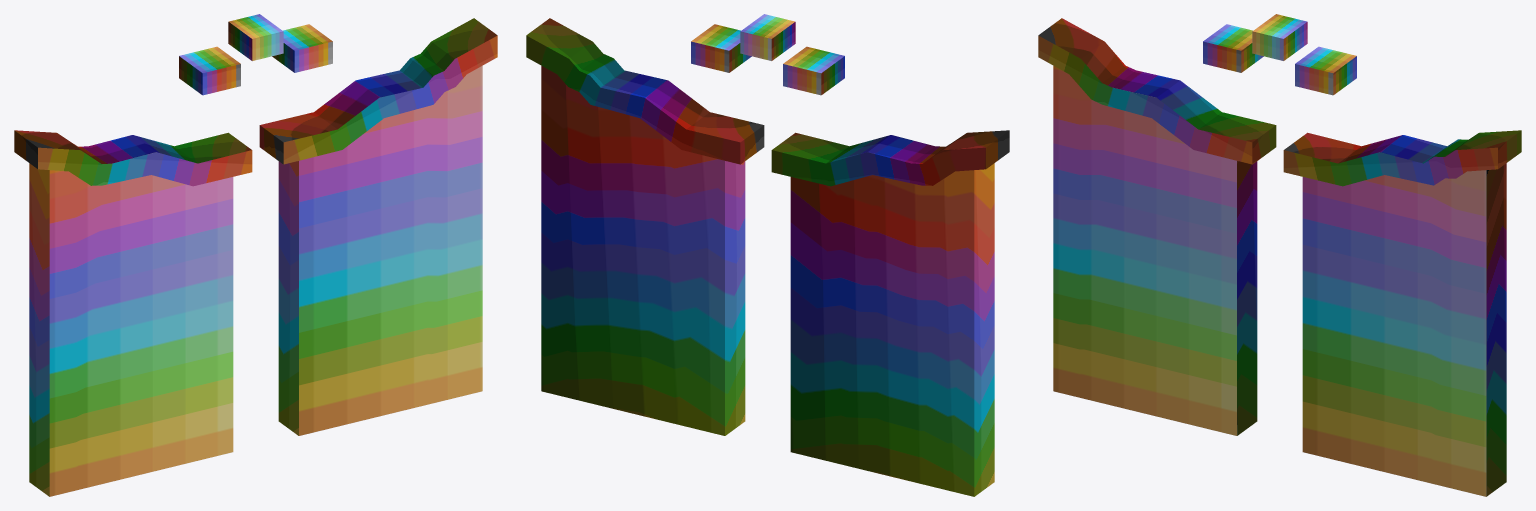
The model's file is DungeonTerrain.fbx.
The picture shows the model from 3 angles, left to right: view 1: azimuth 30°, elevation 25°; view 2: azimuth 150°, elevation 25°; view 3: azimuth 330°, elevation 25°; orthographic projection.
Parts seen in each view (by area): view 1: DungeonsTerrain.002, DungeonsTerrain.001, DungeonsTerrain.004, DungeonsTerrain.003, DungeonsTerrain.006, DungeonsTerrain.005, DungeonsTerrain.007; view 2: DungeonsTerrain.002, DungeonsTerrain.001, DungeonsTerrain.004, DungeonsTerrain.003, DungeonsTerrain.006, DungeonsTerrain.005, DungeonsTerrain.007; view 3: DungeonsTerrain.001, DungeonsTerrain.002, DungeonsTerrain.003, DungeonsTerrain.004, DungeonsTerrain.005, DungeonsTerrain.006, DungeonsTerrain.007.
Part boxes in pixels (box(x1,y1,x2,y2)): DungeonsTerrain.002: box(29, 163, 233, 496); DungeonsTerrain.001: box(278, 66, 482, 435); DungeonsTerrain.004: box(259, 18, 497, 164); DungeonsTerrain.003: box(14, 130, 252, 186); DungeonsTerrain.006: box(179, 46, 240, 95); DungeonsTerrain.005: box(272, 24, 332, 72); DungeonsTerrain.007: box(228, 14, 283, 60); DungeonsTerrain.002: box(790, 163, 994, 496); DungeonsTerrain.001: box(541, 66, 745, 435); DungeonsTerrain.004: box(526, 18, 764, 164); DungeonsTerrain.003: box(771, 130, 1009, 186); DungeonsTerrain.006: box(783, 46, 844, 95); DungeonsTerrain.005: box(691, 24, 751, 72); DungeonsTerrain.007: box(740, 14, 795, 60); DungeonsTerrain.001: box(1302, 163, 1506, 496); DungeonsTerrain.002: box(1053, 66, 1257, 435); DungeonsTerrain.003: box(1038, 18, 1276, 164); DungeonsTerrain.004: box(1283, 130, 1521, 186); DungeonsTerrain.005: box(1295, 46, 1356, 95); DungeonsTerrain.006: box(1203, 24, 1263, 72); DungeonsTerrain.007: box(1252, 14, 1307, 60).
Size of the model in its own units: 6498 by 5539 by 580.
Materials: 1 (1 with a texture image).
